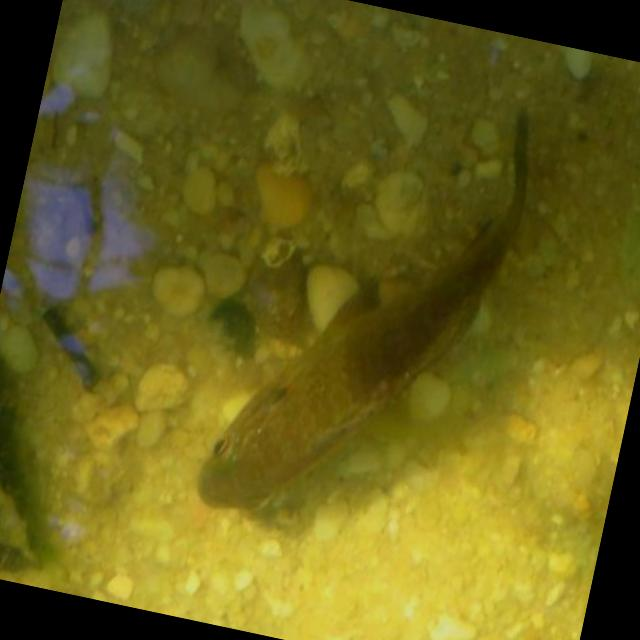Gunes Levregi: (186, 54, 549, 564)
